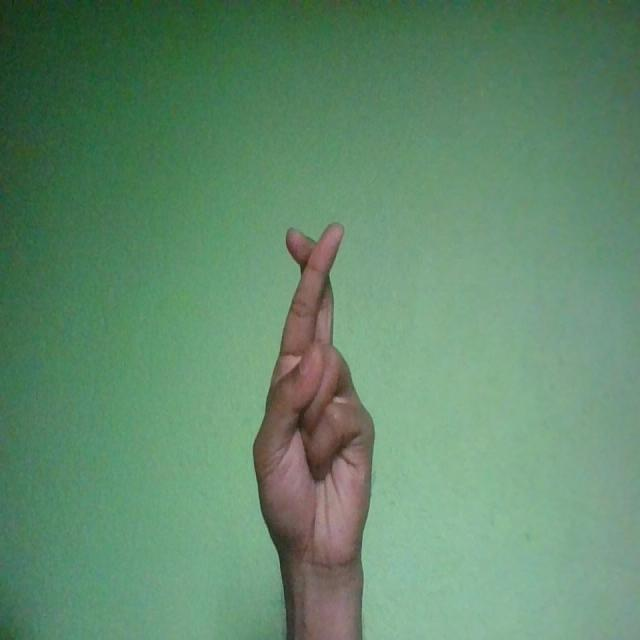Ok: (254, 222, 376, 574)
